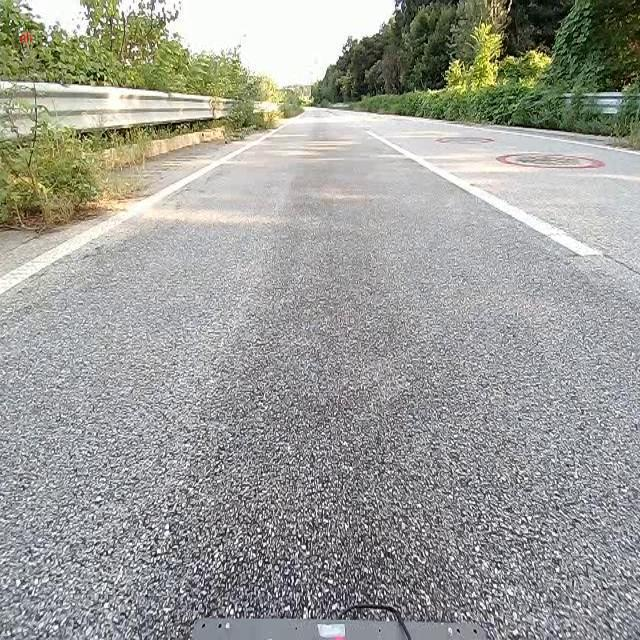Lane: (0, 112, 288, 298), (0, 130, 276, 296), (365, 123, 598, 262), (369, 130, 601, 257)
